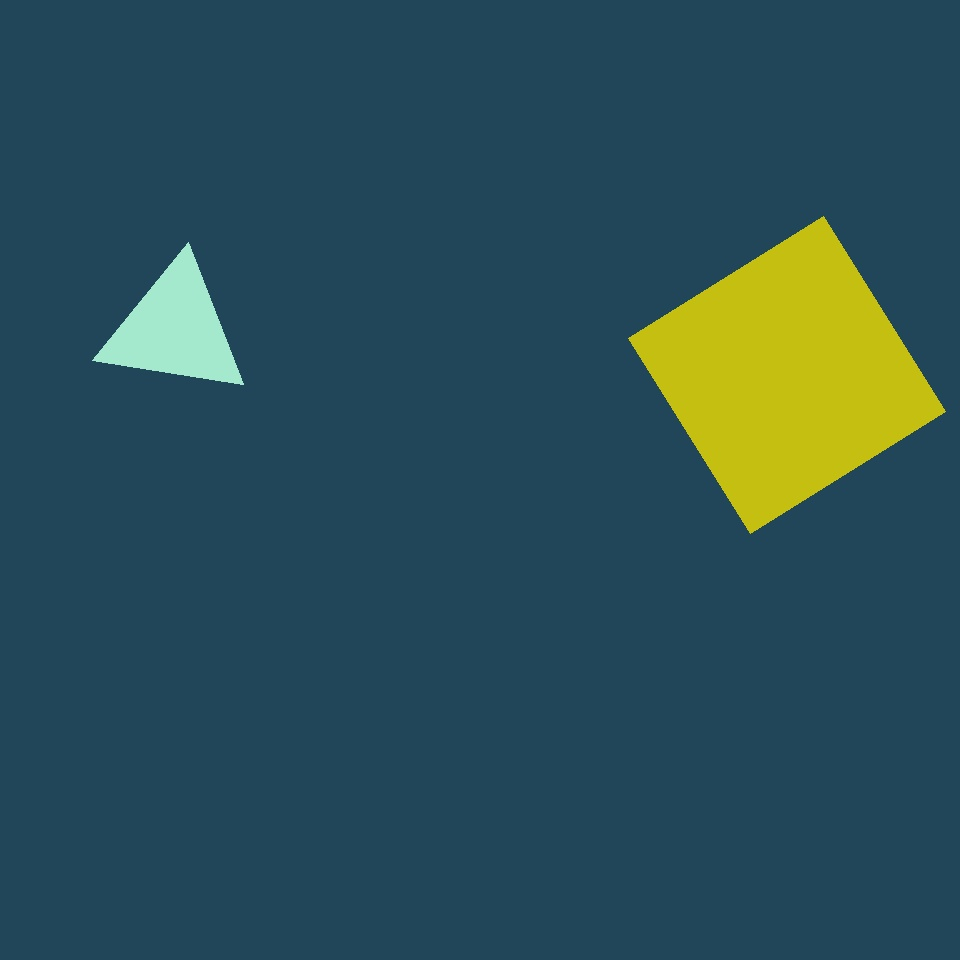circle: (100, 258, 250, 400), (164, 591, 293, 737)
square: (542, 239, 898, 594), (629, 216, 946, 534)
triangle: (123, 467, 326, 670), (183, 721, 385, 923)
